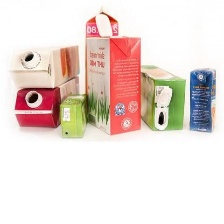carton: (87, 32, 146, 139), (12, 74, 82, 129), (7, 39, 81, 88), (140, 60, 187, 133), (187, 65, 220, 135), (58, 92, 91, 140), (82, 4, 122, 37)
